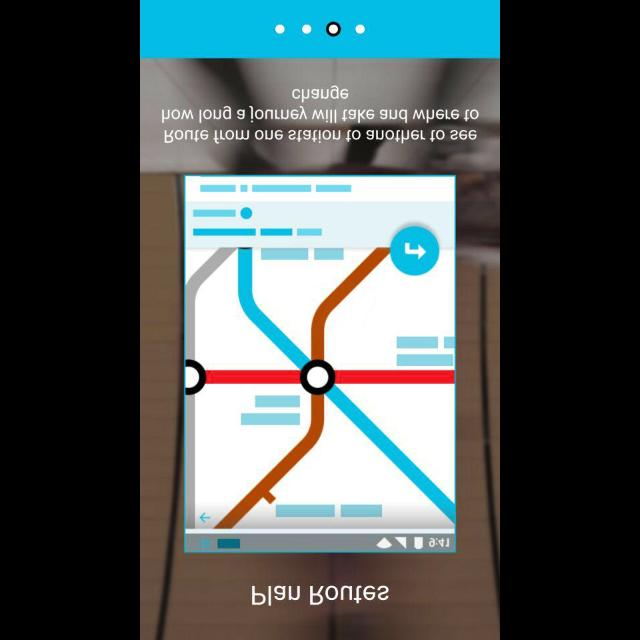backgroundimage: (140, 59, 500, 639)
image: (184, 175, 456, 553)
pageindicator: (274, 21, 366, 37)
text: (162, 85, 480, 145), (252, 584, 390, 606)
